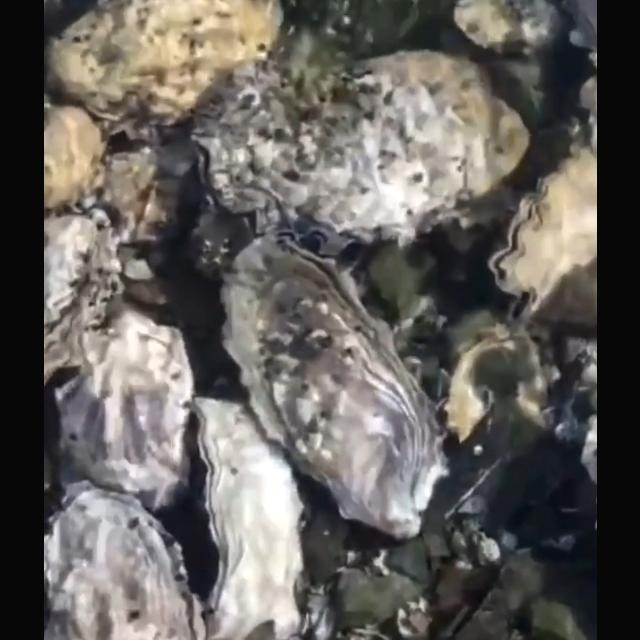Oyster-Closed: (42, 0, 286, 148), (52, 312, 196, 514), (187, 401, 303, 640), (43, 492, 199, 640), (43, 210, 121, 382), (43, 100, 111, 210), (448, 0, 554, 62)
Oyster-Open: (218, 240, 450, 548), (187, 54, 525, 264), (482, 147, 596, 337)
